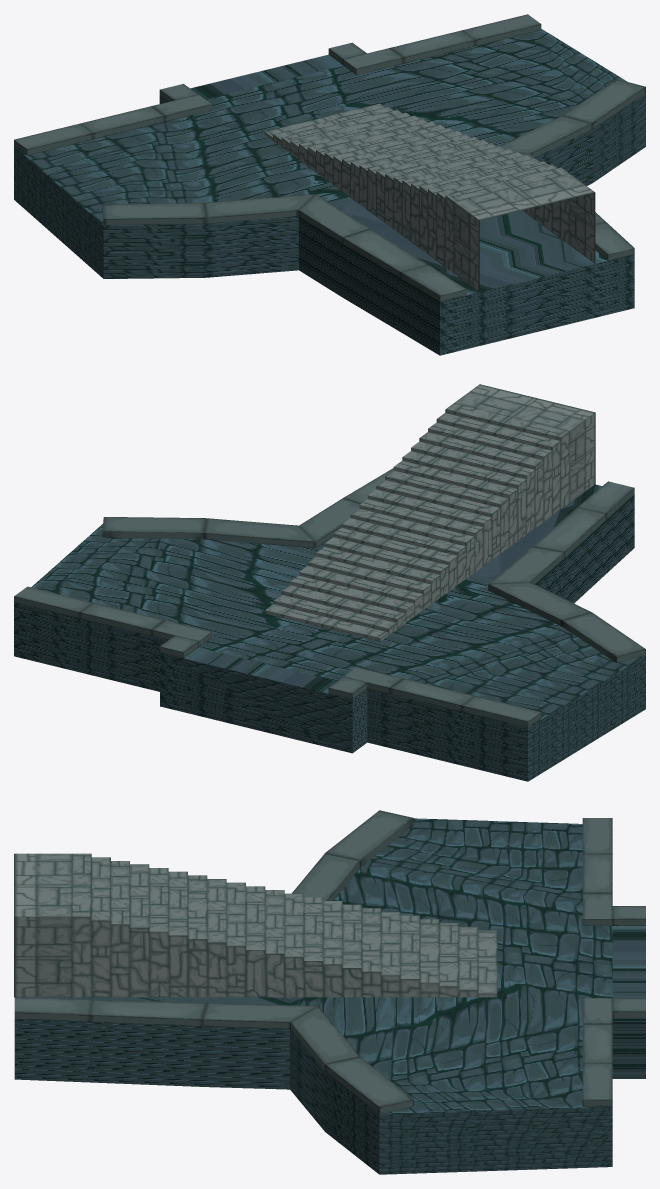
The model's file is LobbyTrimSheet.fbx.
3 renders of one model, top to bottom at view 1: azimuth 30°, elevation 25°; view 2: azimuth 150°, elevation 25°; view 3: azimuth 270°, elevation 25°, orthographic. The views are drawn at different scales.
Visible parts, largest first — view 1: Floor, Stairs, BrickRails; view 2: Floor, Stairs, BrickRails; view 3: Floor, Stairs, BrickRails.
Part boxes in pixels (x1,y1,x2,y2): Floor: (14, 29, 645, 355); Stairs: (264, 103, 595, 291); BrickRails: (14, 14, 645, 301); Floor: (14, 484, 645, 781); Stairs: (264, 384, 595, 641); BrickRails: (14, 468, 645, 727); Floor: (14, 818, 645, 1174); Stairs: (14, 853, 497, 997); BrickRails: (14, 810, 645, 1114).
Bounding box in the file's own units: 4220 × 934 × 3793.
